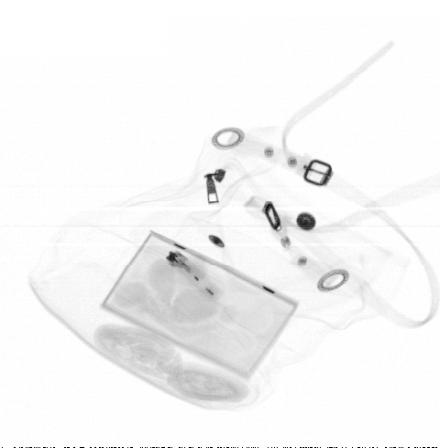Lighter: (164, 248, 223, 303)
